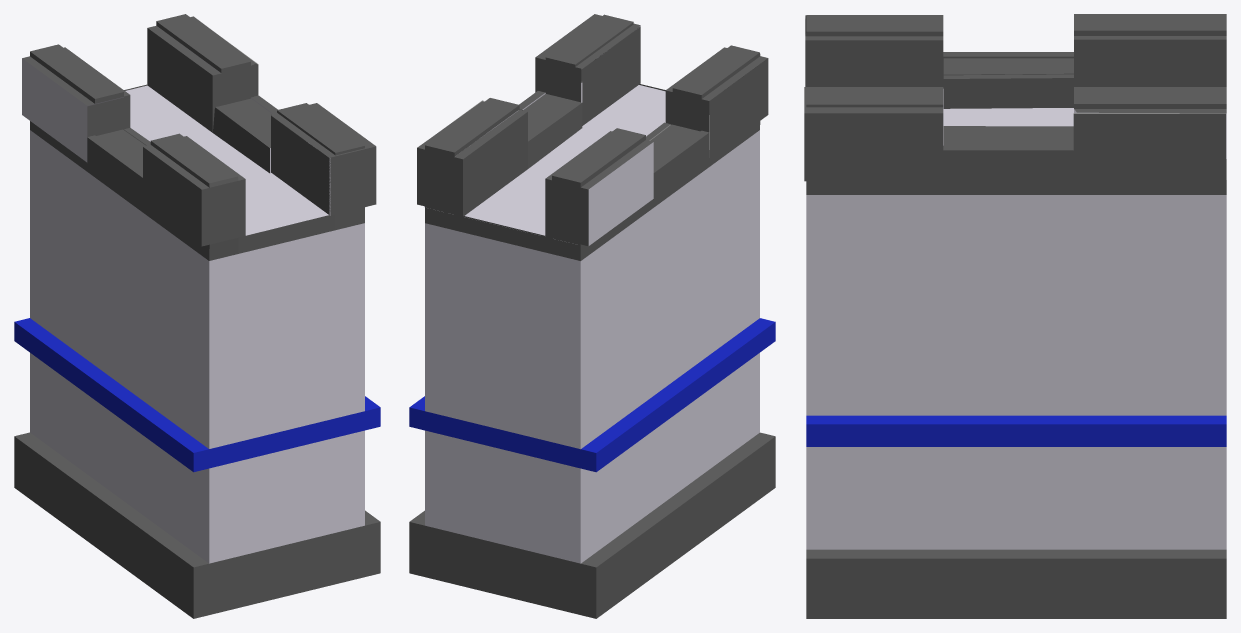
The model's file is complete_hittites_wall.fbx.
The picture shows the model from 3 angles, left to right: view 1: azimuth 30°, elevation 25°; view 2: azimuth 150°, elevation 25°; view 3: azimuth 270°, elevation 25°; orthographic projection. The views are drawn at different scales.
Visible parts, largest first — view 1: Cube; view 2: Cube; view 3: Cube.
Part boxes in pixels (x1,y1,x2,y2): Cube: (14,14,380,618); Cube: (409,14,775,618); Cube: (804,14,1226,618).
Bounding box in the file's own units: 264 × 583 × 441.
